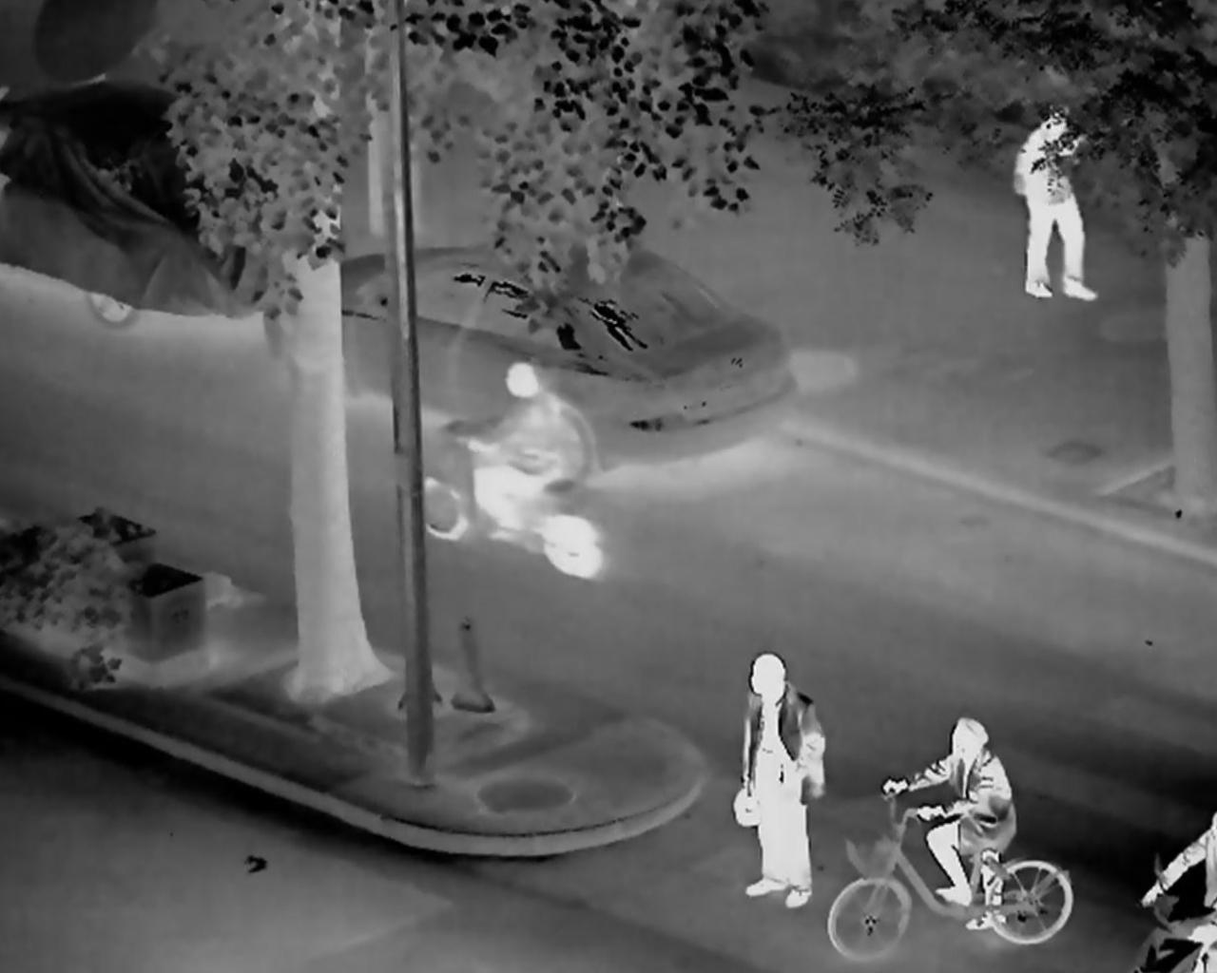person: (880, 719, 1014, 935), (728, 652, 823, 910), (462, 366, 563, 540), (1014, 102, 1096, 303), (1145, 805, 1217, 947)
